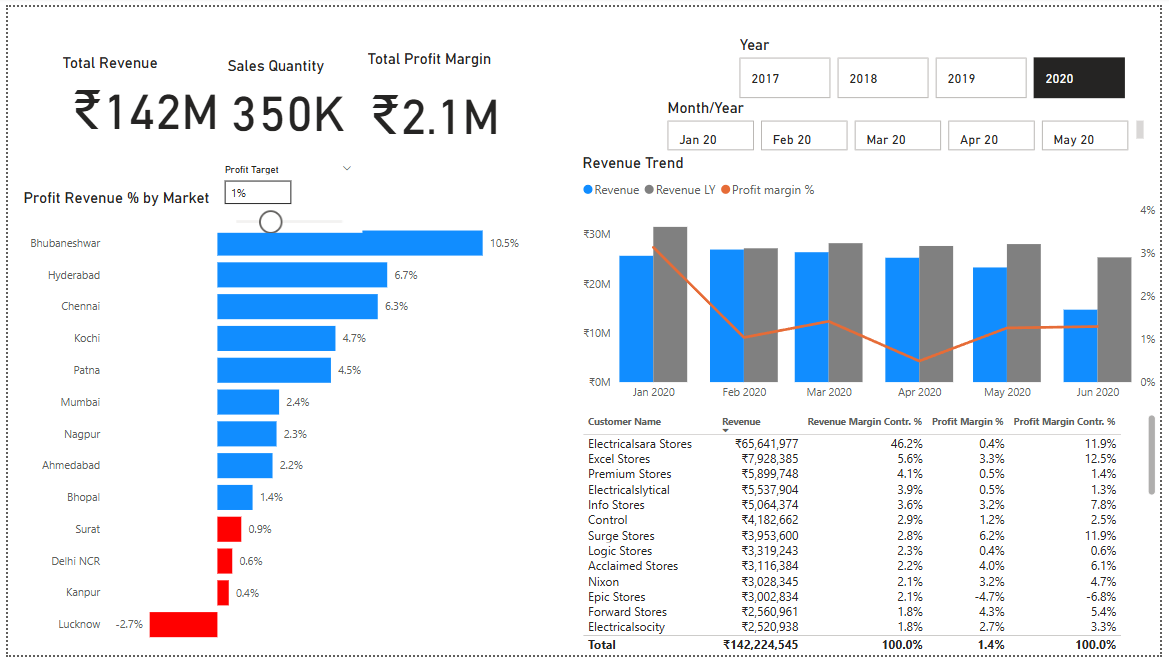

The page's visual inventory and layout, read from the dashboard file:
{"tool":"powerbi","page":{"name":"Performance analysis","canvas":[1280,720],"ordinal":2},"visuals":[{"type":"card","title":"Total Revenue","fields":{"Values":["BaseMeasures.Revenue"]},"box":[55.2,52.6,194.9,96.6],"z":0},{"type":"card","title":"Sales Quantity","fields":{"Values":["BaseMeasures.Sales Qty"]},"box":[238.9,55.2,144,94],"z":1000},{"type":"advancedSlicerVisual","title":"Year","fields":{"Values":["sales date.year"]},"box":[807.3,31.9,440.8,74.2],"z":2000},{"type":"advancedSlicerVisual","title":"Month/Year","fields":{"Values":["sales date.cy_date"]},"box":[728,102.6,539.9,62.1],"z":3000},{"type":"tableEx","title":"Top 5 customers","fields":{"Values":["sales customers.custmer_name","BaseMeasures.Revenue","BaseMeasures.Revenue Margin Contribution %","BaseMeasures.Profit margin %","BaseMeasures.Profit Margin Contribution %"]},"box":[633.1,447.7,646.9,272.6],"z":4000},{"type":"lineClusteredColumnComboChart","title":"Revenue Trend","fields":{"Category":["sales date.cy_date Hierarchy.cy_date"],"Y":["BaseMeasures.Revenue","BaseMeasures.Revenue LY"],"Y2":["BaseMeasures.Profit margin %"]},"box":[633.1,163.9,646.9,283.8],"z":5000},{"type":"card","title":"Total Profit Margin","fields":{"Values":["BaseMeasures.Total Profit Margin"]},"box":[394.2,48.3,160.4,115.6],"z":6000},{"type":"barChart","title":"Profit Revenue % by Market","fields":{"Y":["BaseMeasures.Profit margin %"],"Category":["sales markets.zone","sales markets.markets_name","sales customers.custmer_name","sales products.product_code"]},"box":[12.1,202.7,568.4,517.5],"z":7000},{"type":"slicer","fields":{"Values":["Profit Target .Profit Target "]},"box":[227.7,169.1,166.5,81.9],"z":8000}]}

Visuals, with their boxes in screenshot pixels (x1, y1, x2, y2), scaled from the page's 1280x720 canvas onto the 1169x666 screenshot:
"Total Revenue" card: <box>50,49,228,138</box>
"Sales Quantity" card: <box>218,51,350,138</box>
"Year" advancedSlicerVisual: <box>737,30,1140,98</box>
"Month/Year" advancedSlicerVisual: <box>665,95,1158,152</box>
"Top 5 customers" tableEx: <box>578,414,1168,665</box>
"Revenue Trend" lineClusteredColumnComboChart: <box>578,152,1168,414</box>
"Total Profit Margin" card: <box>360,45,507,152</box>
"Profit Revenue % by Market" barChart: <box>11,187,530,665</box>
slicer - Profit Target .Profit Target : <box>208,156,360,232</box>
